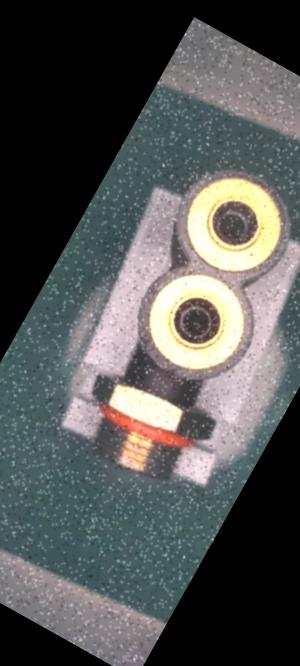bump: (123, 323, 162, 360), (161, 358, 188, 382)
white mark: (155, 385, 169, 401)
